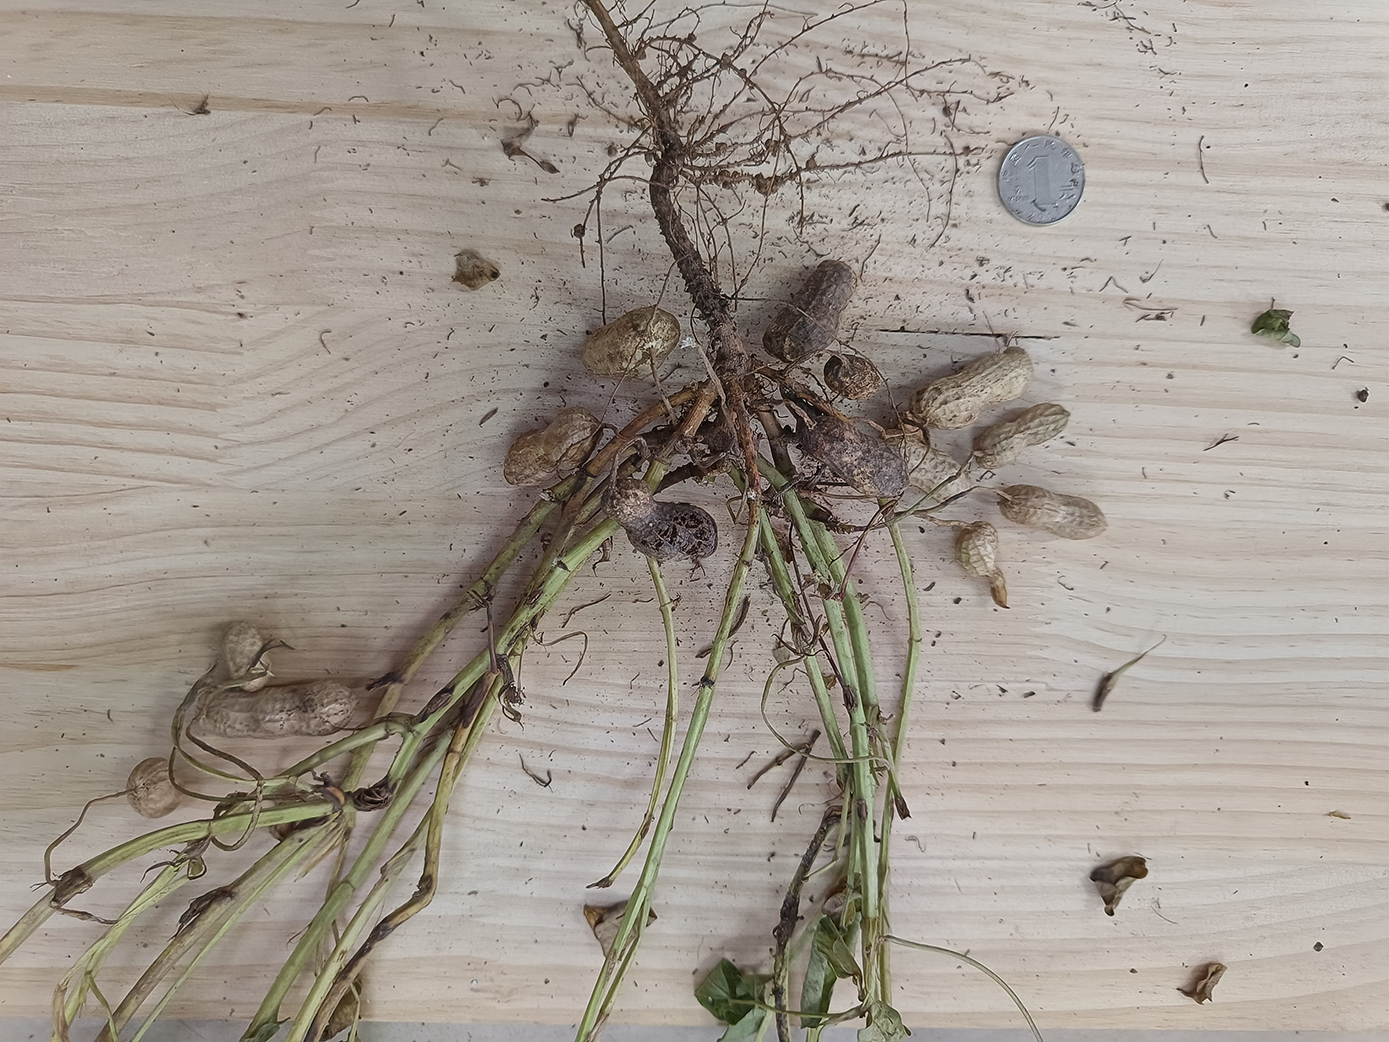h: (917, 347, 1031, 427), (503, 407, 603, 487), (582, 306, 681, 377), (889, 425, 972, 506), (971, 405, 1069, 471), (999, 484, 1108, 541), (126, 757, 185, 819)
l: (764, 260, 863, 361), (600, 478, 718, 561), (794, 418, 908, 500), (954, 521, 1007, 609), (823, 354, 881, 401)
